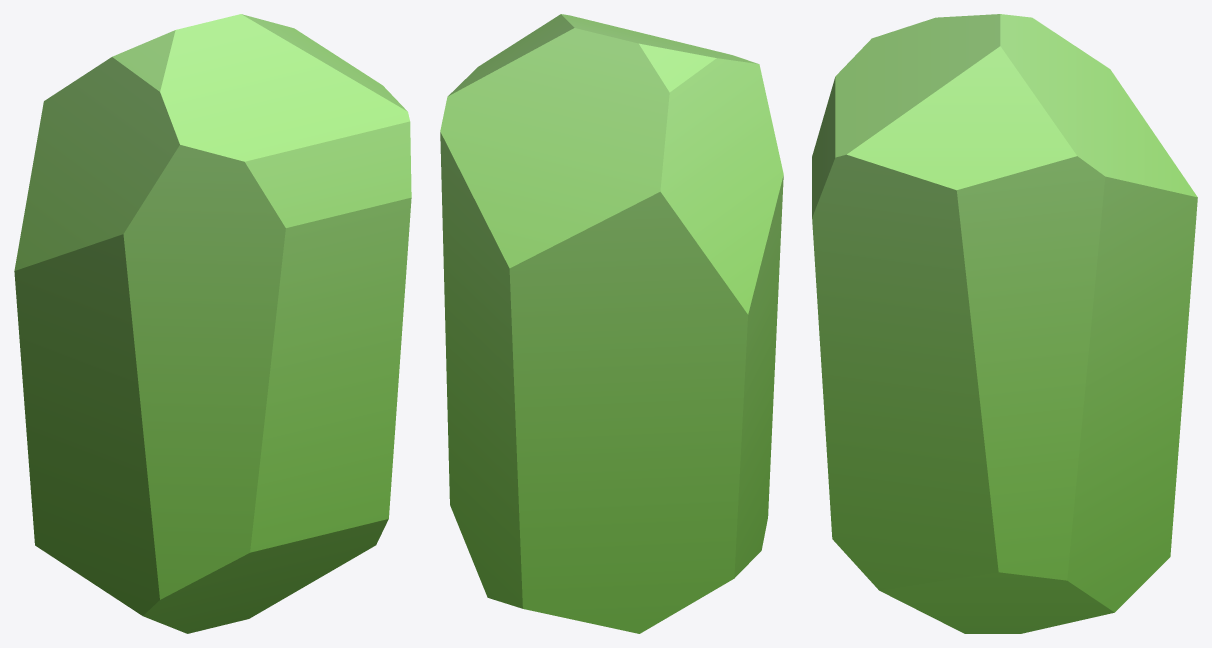
The model's file is Crystal_11.fbx.
The picture shows the model from 3 angles, left to right: view 1: azimuth 30°, elevation 25°; view 2: azimuth 150°, elevation 25°; view 3: azimuth 270°, elevation 25°; orthographic projection. The views are drawn at different scales.
Parts seen in each view (by area): view 1: Crystal_11; view 2: Crystal_11; view 3: Crystal_11.
Part boxes in pixels (bbox=[...]): Crystal_11: bbox=[14, 14, 411, 633]; Crystal_11: bbox=[440, 14, 783, 633]; Crystal_11: bbox=[812, 14, 1197, 633].
Bounding box in the file's own units: 0.7325 × 1.28 × 0.7561.
